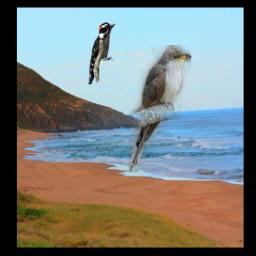Cuckoo: (128, 45, 191, 173)
Woodpecker: (89, 23, 116, 85)
